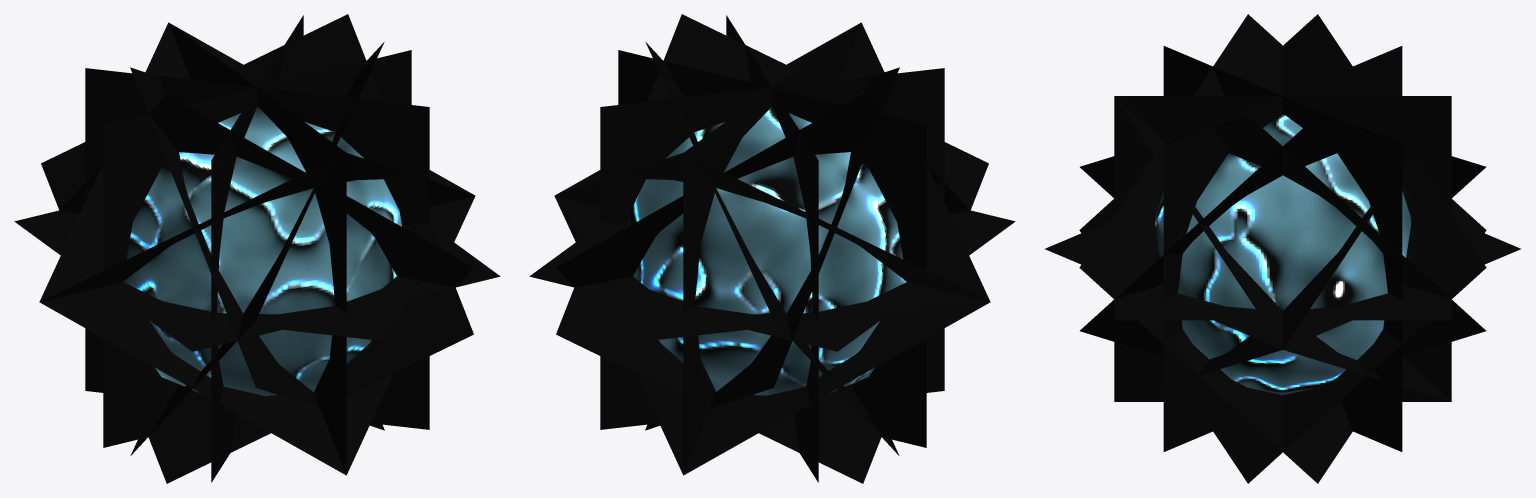
File: spellstone_static.fbx
The picture shows the model from 3 angles, left to right: view 1: azimuth 30°, elevation 25°; view 2: azimuth 150°, elevation 25°; view 3: azimuth 270°, elevation 25°; orthographic projection. The views are drawn at different scales.
Visible parts, largest first — view 1: spellstone; view 2: spellstone; view 3: spellstone.
Boxes of the visible parts, x1,y1,x2,y2 form: spellstone: (14, 14, 500, 483); spellstone: (529, 14, 1015, 483); spellstone: (1045, 14, 1520, 483).
Bounding box in the file's own units: 283 × 241 × 283.
